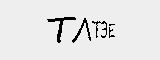Е: (105, 20, 116, 40)
Л: (69, 15, 92, 45)
Т: (44, 14, 75, 46), (90, 17, 102, 41)
Э: (99, 16, 108, 42)
